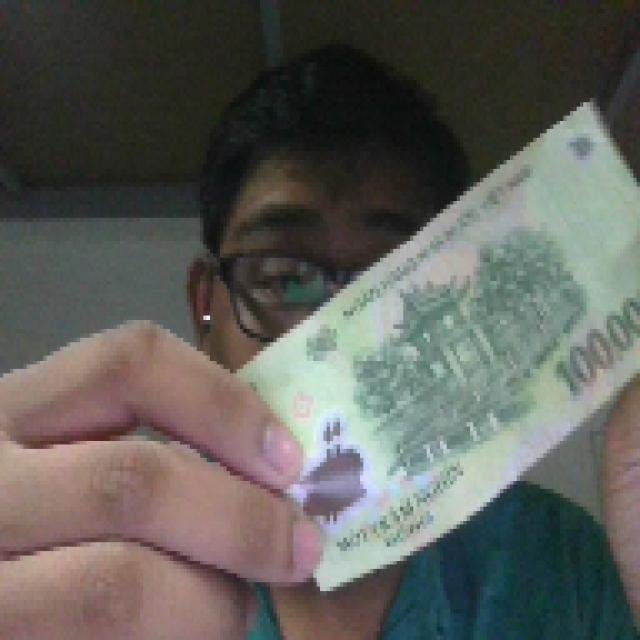100 000 VND: (223, 94, 637, 596)
